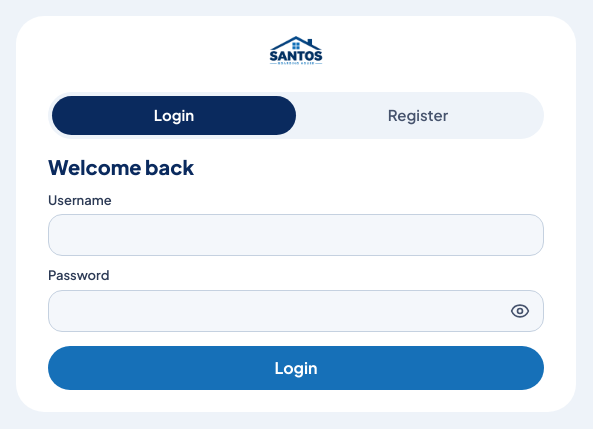
Scenario: AuthPage › switches the form inside the same card
Check: the heading "Welcome back" is shown, box top-left (48, 154), bottom-right (194, 179)
Step 1. Click the link "Register" → (418, 115), box top-left (388, 105), bottom-right (448, 124)
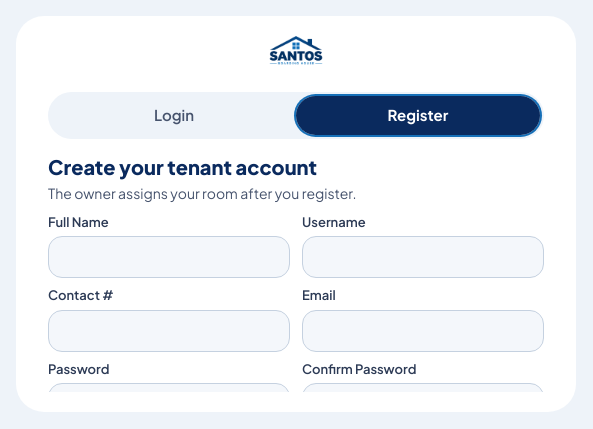
Check: the heading "Create your tenant account" is shown, box top-left (48, 154), bottom-right (317, 179)
